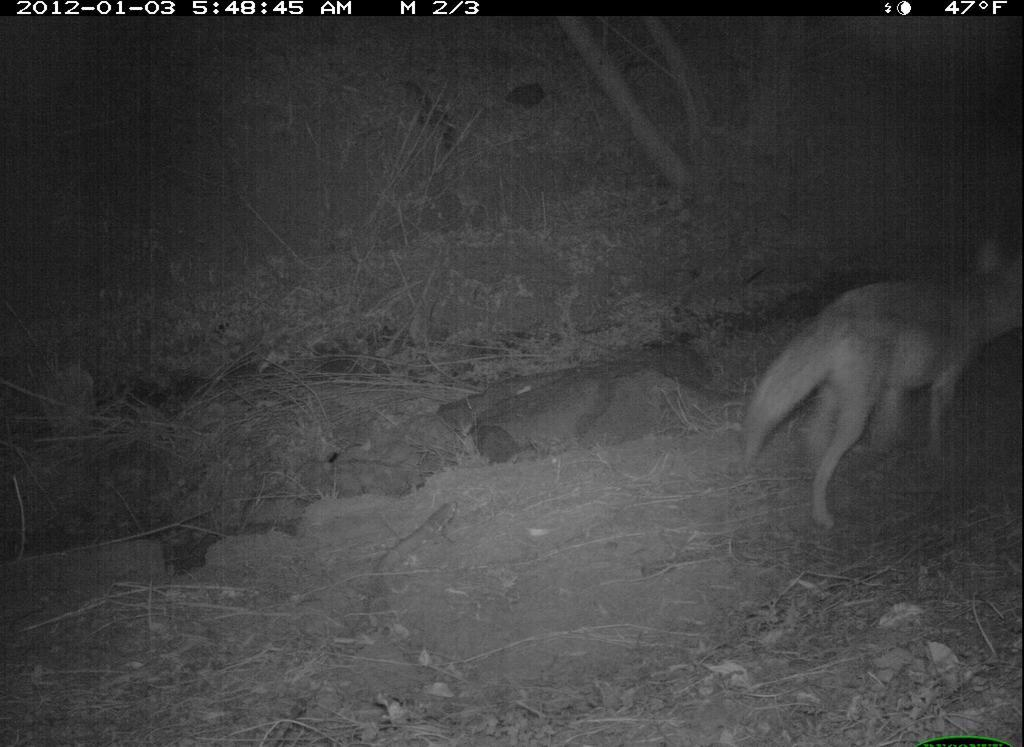coyote: (730, 208, 1013, 528)
